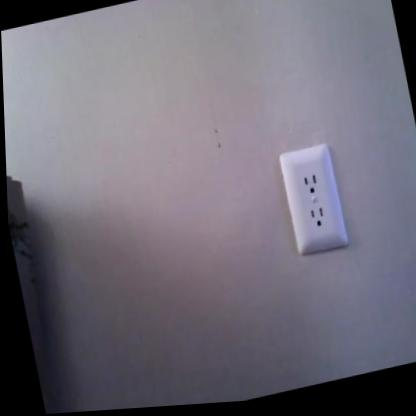OUTLET: (278, 142, 350, 258)
